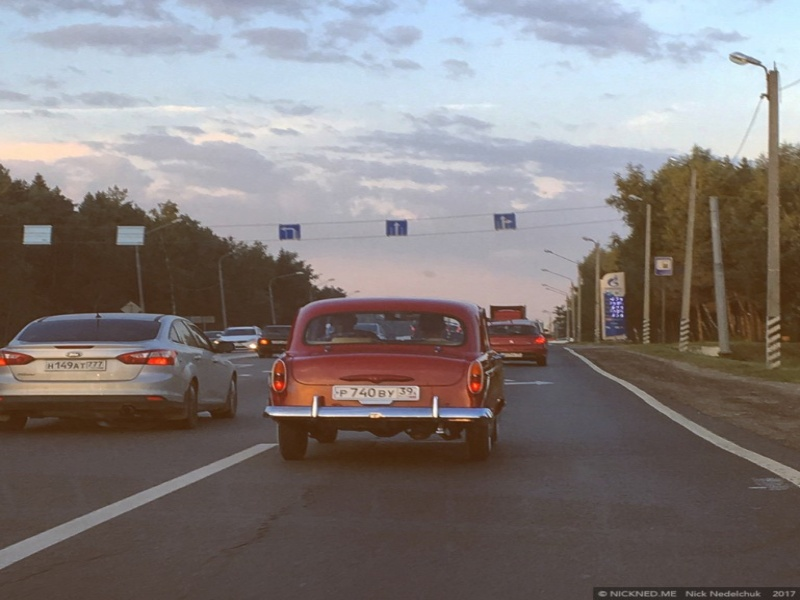car: (263, 297, 505, 459), (1, 311, 240, 429), (488, 320, 547, 365), (216, 326, 259, 351), (259, 324, 292, 356)
plate: (334, 385, 417, 399), (46, 359, 104, 370)
